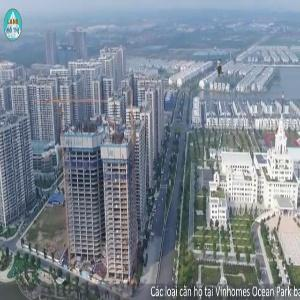drone: (183, 28, 261, 106)
